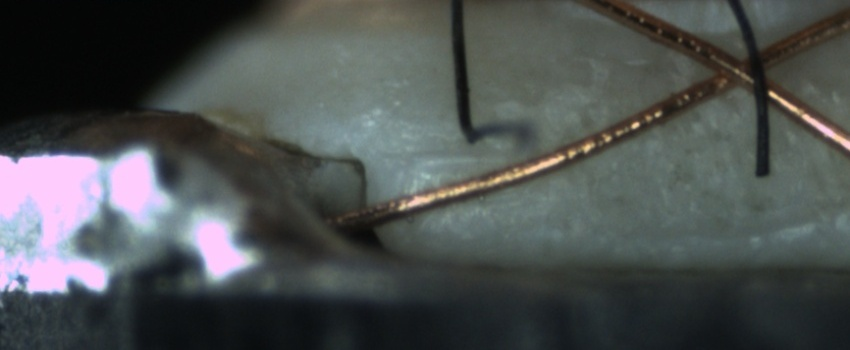CL: (691, 37, 782, 101)
DL: (400, 124, 517, 190)
